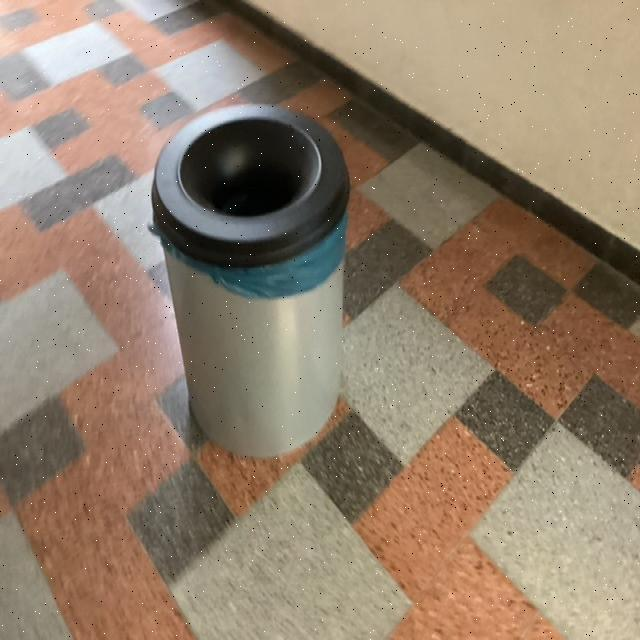garbage container: (135, 86, 370, 492)
